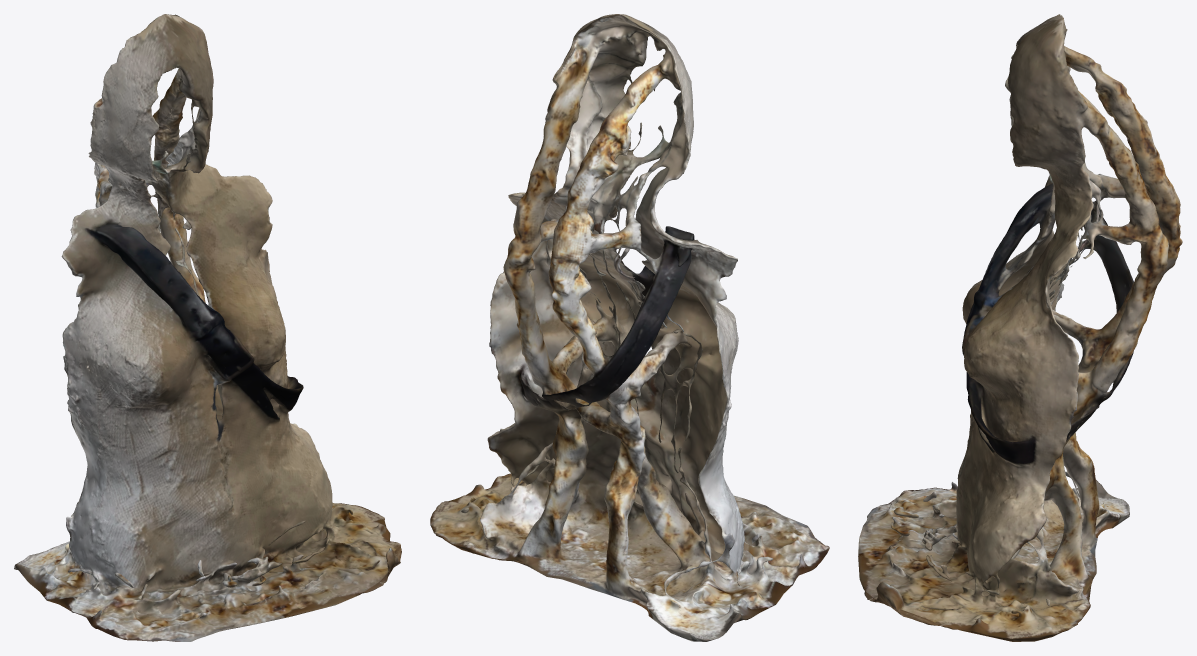
Rendered from FA-002-backup-raw.glb.
3 renders of one model, left to right at view 1: azimuth 30°, elevation 25°; view 2: azimuth 150°, elevation 25°; view 3: azimuth 270°, elevation 25°, orthographic. The views are drawn at different scales.
Parts seen in each view (by area): view 1: 3DModel; view 2: 3DModel; view 3: 3DModel.
Part boxes in pixels (x1=…): 3DModel: x1=14, y1=14, x2=401, y2=641; 3DModel: x1=430, y1=14, x2=829, y2=641; 3DModel: x1=858, y1=14, x2=1182, y2=641.
Size of the model in its own units: 0.8093 by 1.29 by 0.6998.
Materials: 1 (1 with a texture image).
